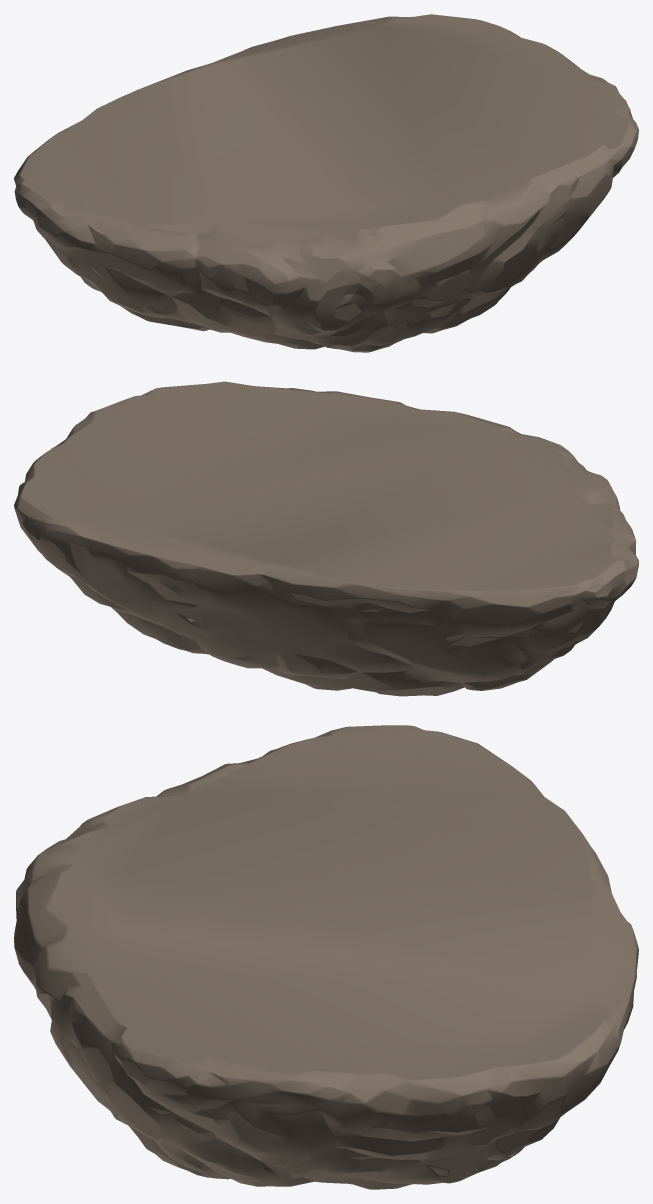
The model's file is IlhaM2.fbx.
3 renders of one model, top to bottom at view 1: azimuth 30°, elevation 25°; view 2: azimuth 150°, elevation 25°; view 3: azimuth 270°, elevation 25°, orthographic. The views are drawn at different scales.
Parts seen in each view (by area): view 1: IlhaM2; view 2: IlhaM2; view 3: IlhaM2.
Boxes of the visible parts, x1,y1,x2,y2 form: IlhaM2: (14, 14, 638, 352); IlhaM2: (14, 381, 638, 696); IlhaM2: (14, 725, 638, 1189).
Size of the model in its own units: 3758 by 1137 by 2753.
